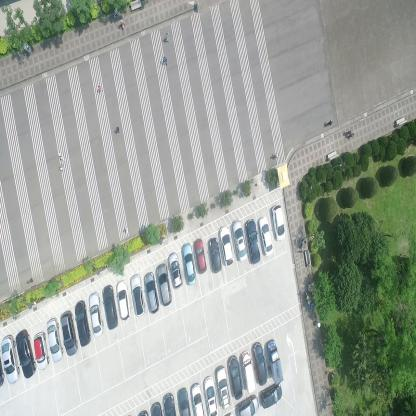car: (15, 328, 36, 378), (0, 335, 21, 384), (244, 214, 261, 267), (266, 337, 284, 386), (60, 308, 78, 356), (74, 298, 91, 347), (230, 217, 247, 263), (46, 317, 63, 362), (251, 340, 268, 385), (88, 291, 104, 338), (181, 242, 197, 288), (129, 271, 145, 317), (258, 212, 274, 257), (102, 285, 118, 330), (218, 223, 234, 267), (143, 270, 159, 314), (115, 278, 131, 322), (156, 262, 171, 306), (241, 349, 256, 393), (34, 331, 50, 372), (203, 374, 219, 415), (216, 363, 230, 409), (167, 251, 183, 290), (261, 382, 283, 410), (229, 353, 242, 399), (272, 202, 286, 242), (208, 235, 222, 275), (190, 381, 205, 415), (193, 238, 207, 274), (236, 393, 258, 415), (178, 387, 191, 415), (163, 392, 176, 416)
